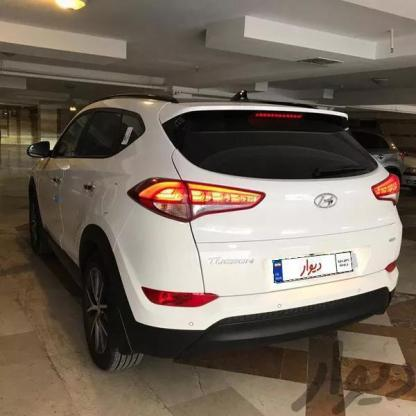Car: (17, 90, 402, 369)
